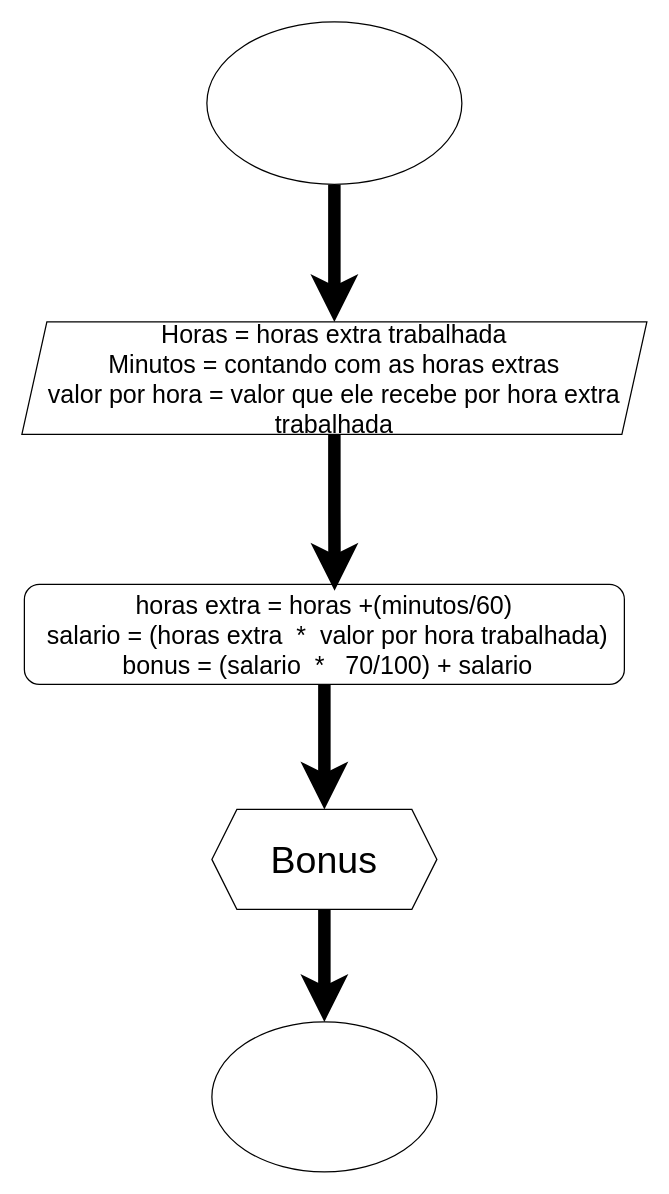
Image size: 669x1194. Some labels were removed from this diagram. Here are the shapes that lost their labels. From the top down, the centre of each, then its label:
At pixel 334 102: "Inicio".
At pixel 324 1096: "Fim".
